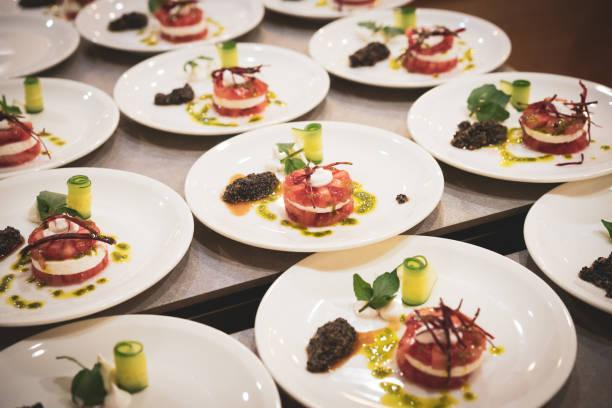Braised Crucian Carp: (252, 235, 585, 408), (185, 119, 445, 253), (0, 167, 191, 324), (408, 73, 608, 183), (114, 42, 321, 137), (309, 6, 506, 89)
